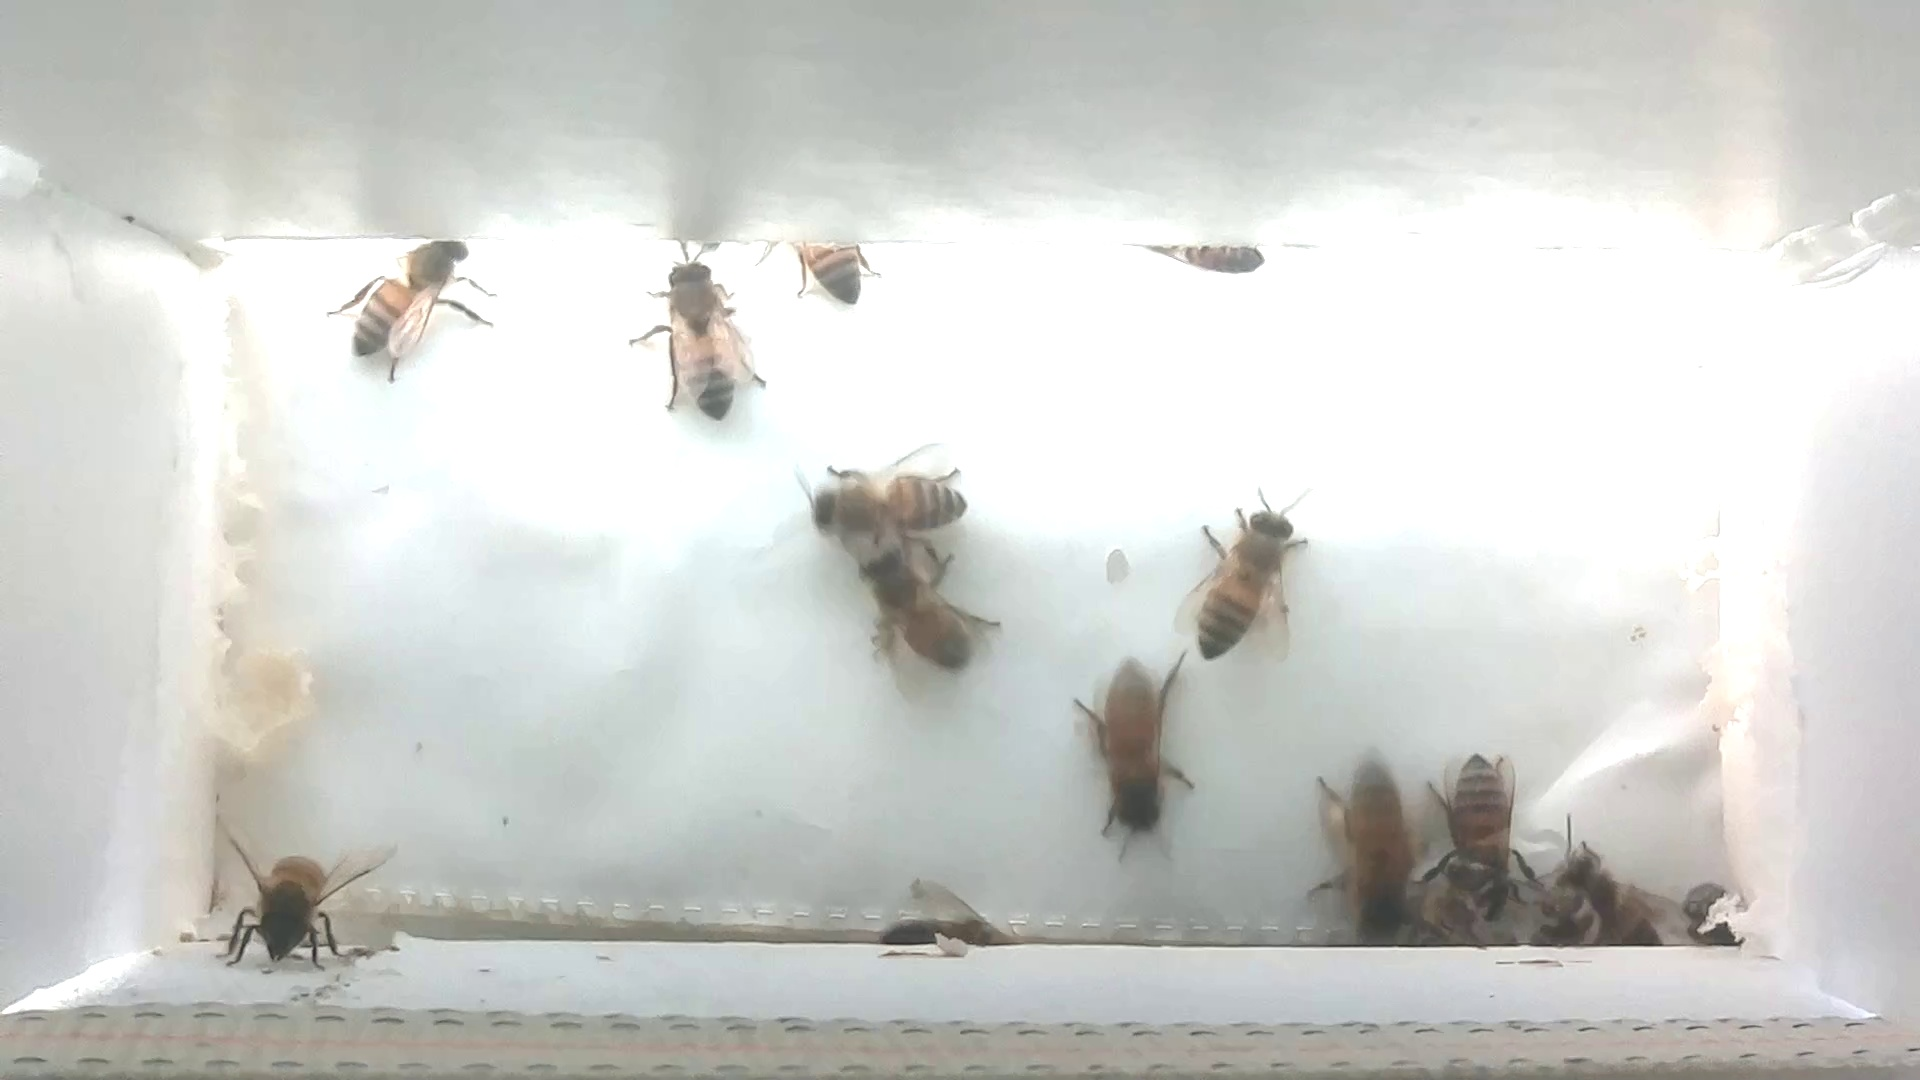bee: (1056, 640, 1200, 872), (1175, 468, 1327, 683), (208, 810, 400, 975), (328, 214, 508, 382), (638, 235, 775, 443), (847, 531, 1015, 684), (775, 443, 982, 558), (1309, 752, 1423, 948), (1419, 735, 1534, 914), (1553, 825, 1695, 956), (872, 876, 1035, 961), (778, 225, 895, 316), (1126, 233, 1294, 295)
